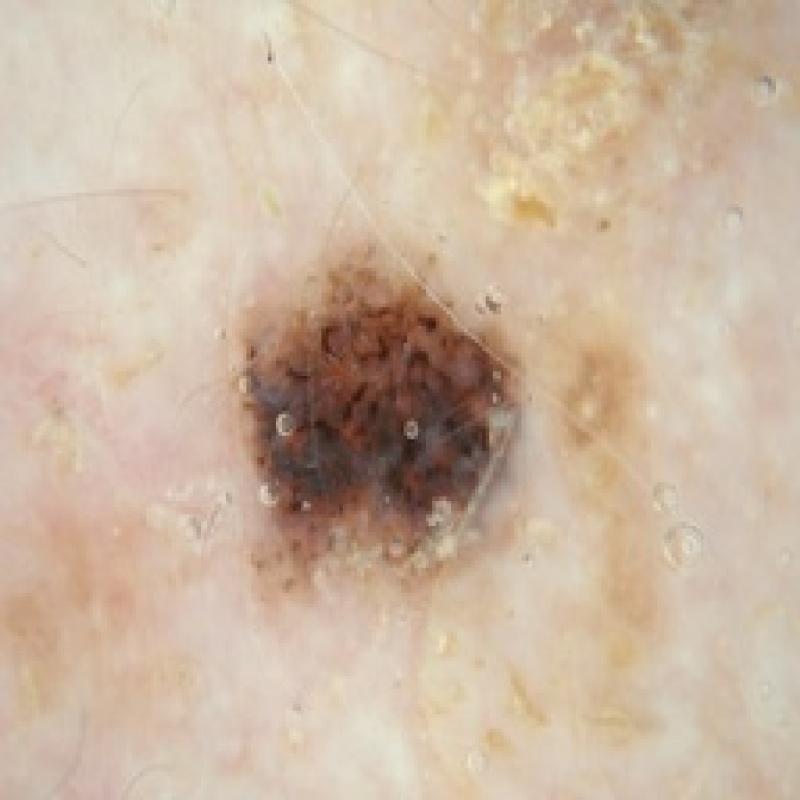malignant: (201, 203, 558, 590)
